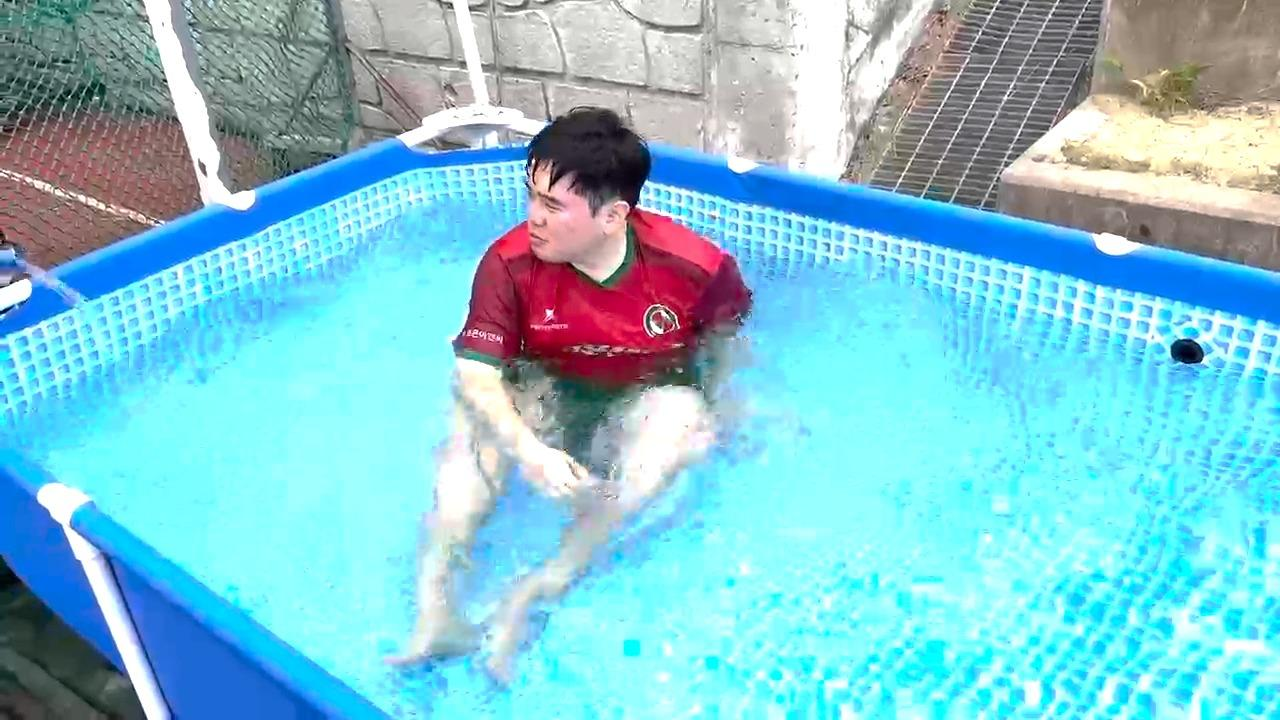Swimming: (355, 63, 806, 676)
